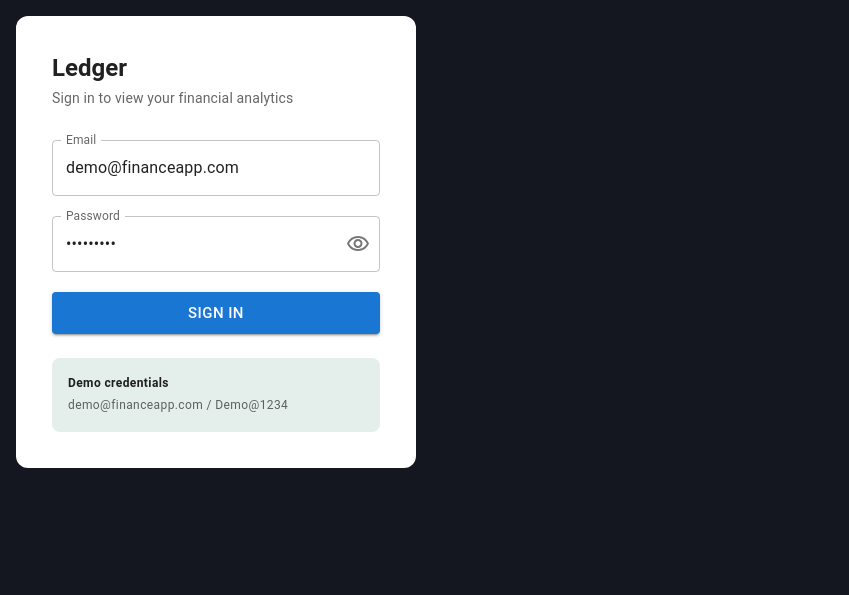
it: LoginPage › shows an alert chip when login fails
Check: the field showing "demo@financeapp.com" is shown, box [52,140,380,196]
Click the button "Sign in". click: (216, 313)
box: [52,292,380,334]
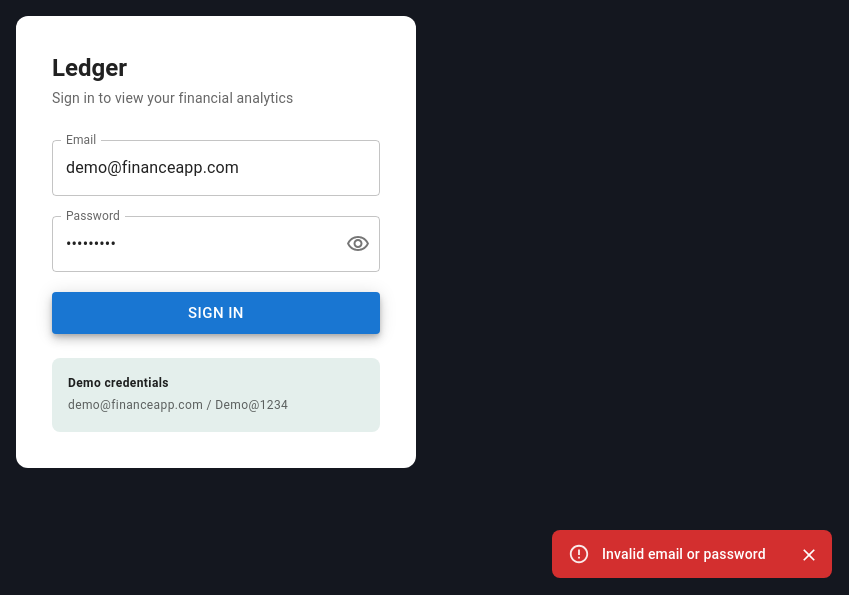
Check: the text "Invalid email or password" is shown, box [602,546,766,562]
